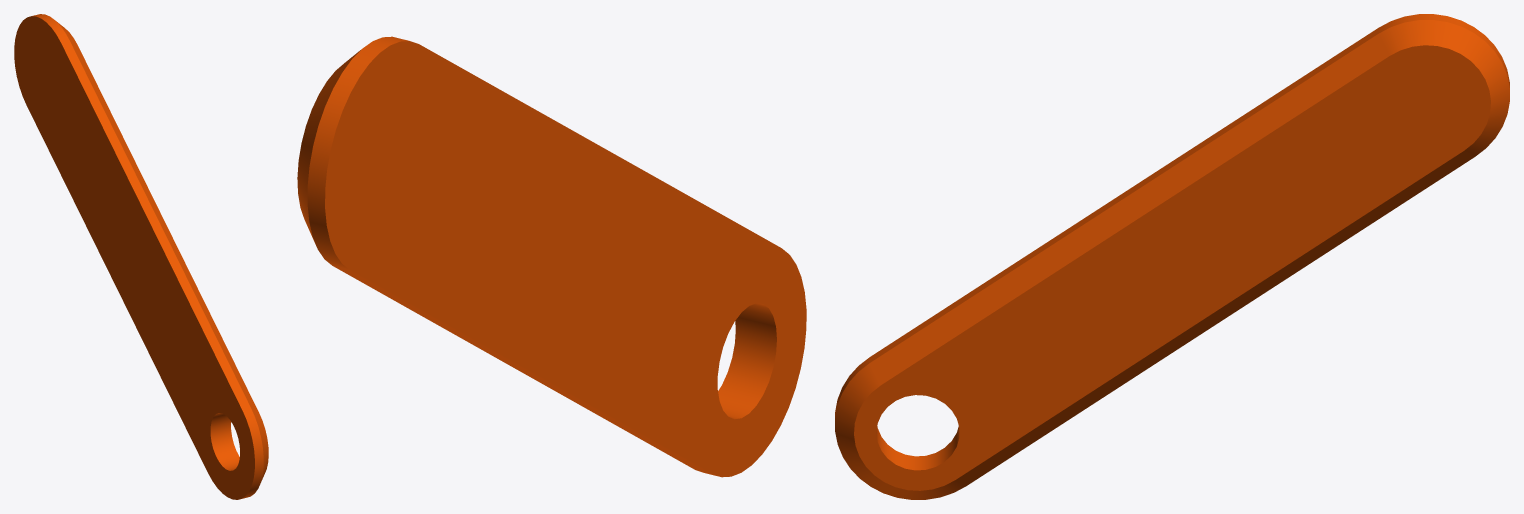
The model's file is LeftEar.glb.
3 views of the same model, side by side, from view 1: azimuth 30°, elevation 25°; view 2: azimuth 150°, elevation 25°; view 3: azimuth 270°, elevation 25° (orthographic). The views are drawn at different scales.
Parts seen in each view (by area): view 1: LeftEar; view 2: LeftEar; view 3: LeftEar.
Part boxes in pixels (x1=…): LeftEar: x1=14, y1=14, x2=268, y2=499; LeftEar: x1=297, y1=36, x2=806, y2=477; LeftEar: x1=835, y1=14, x2=1509, y2=499.
Size of the model in its own units: 2 by 31.77 by 40.48.
